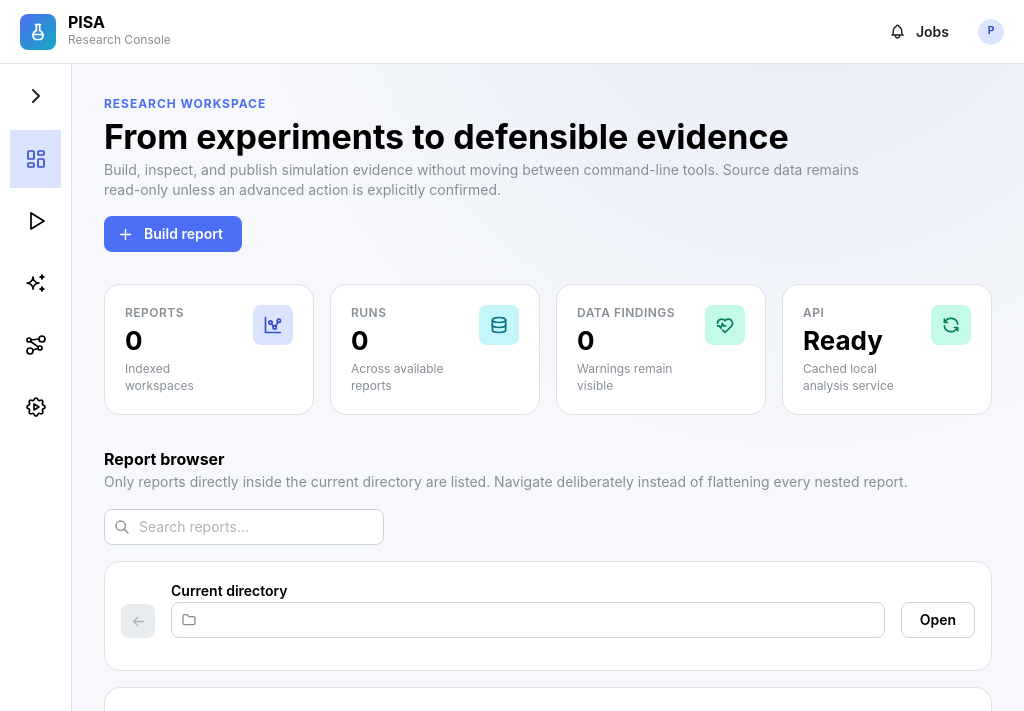
it: PISA Research Console › navigates to the dedicated Samples workspace
Click the link named "Samples": (36, 283) top-left (24, 271), bottom-right (48, 295)
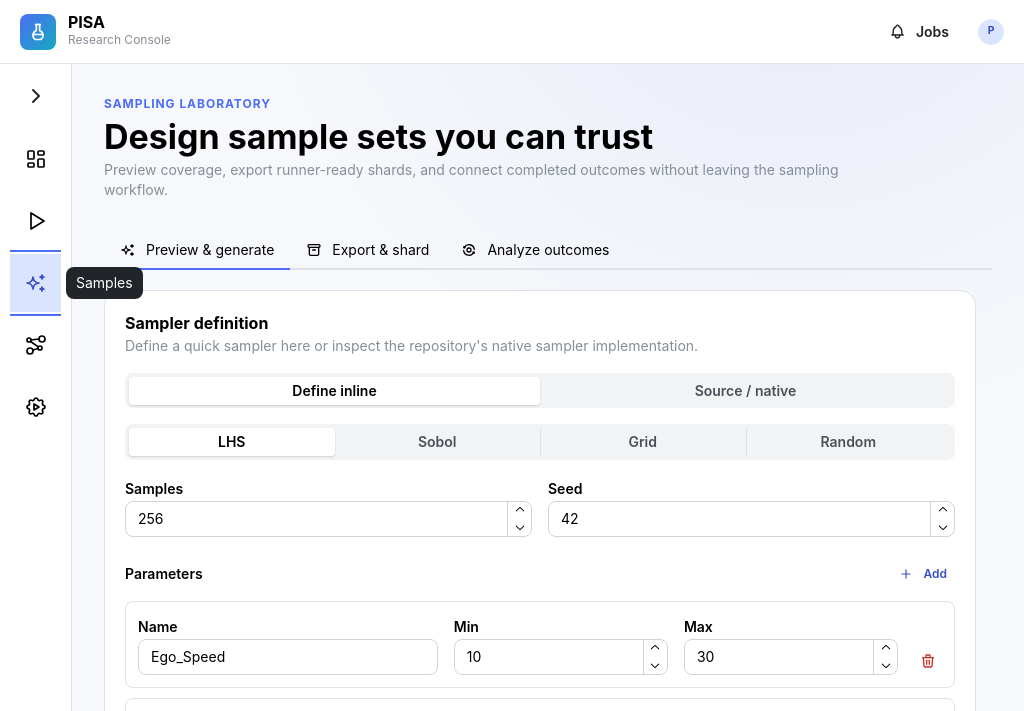
Expected: the heading "Design sample sets you can trust" is shown, top-left (104, 116), bottom-right (653, 157)
Expected: the tab "Preview & generate" is shown, top-left (104, 232), bottom-right (290, 270)
Expected: the tab "Export & shard" is shown, top-left (290, 232), bottom-right (445, 270)
